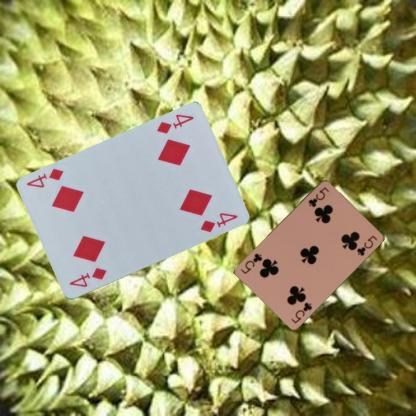4d: (154, 111, 195, 136), (66, 265, 108, 289)
5c: (288, 299, 313, 325), (306, 184, 330, 208)
